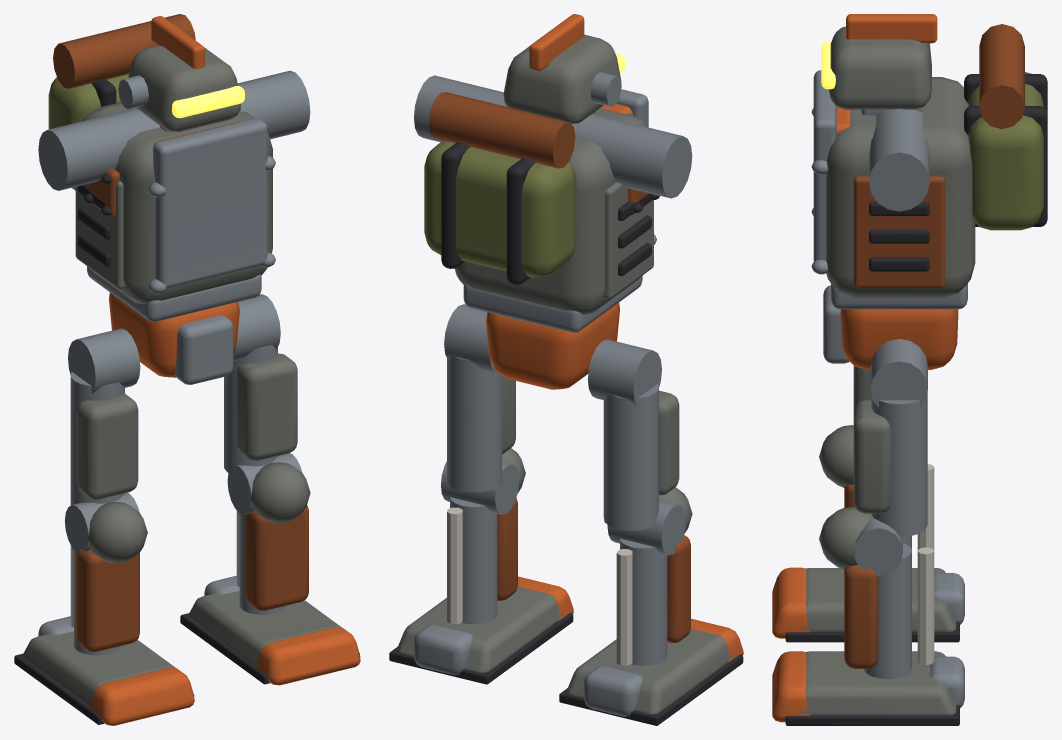
Rendered from ch_courier.glb.
3 renders of one model, left to right at view 1: azimuth 30°, elevation 25°; view 2: azimuth 150°, elevation 25°; view 3: azimuth 270°, elevation 25°, orthographic. The views are drawn at different scales.
Visible parts, largest first — view 1: ch_courier, limb_leg_l, limb_leg_r; view 2: ch_courier, limb_leg_l, limb_leg_r; view 3: ch_courier, limb_leg_r, limb_leg_l.
Part boxes in pixels (x1=…): ch_courier: x1=38, y1=14, x2=310, y2=384; limb_leg_l: x1=14, y1=328, x2=194, y2=725; limb_leg_r: x1=180, y1=294, x2=360, y2=685; ch_courier: x1=414, y1=14, x2=692, y2=389; limb_leg_l: x1=559, y1=339, x2=743, y2=725; limb_leg_r: x1=389, y1=304, x2=573, y2=684; ch_courier: x1=811, y1=14, x2=1047, y2=369; limb_leg_r: x1=772, y1=339, x2=964, y2=725; limb_leg_l: x1=772, y1=365, x2=964, y2=642.
Bounding box in the file's own units: 0.3185 × 0.7241 × 0.2803.
